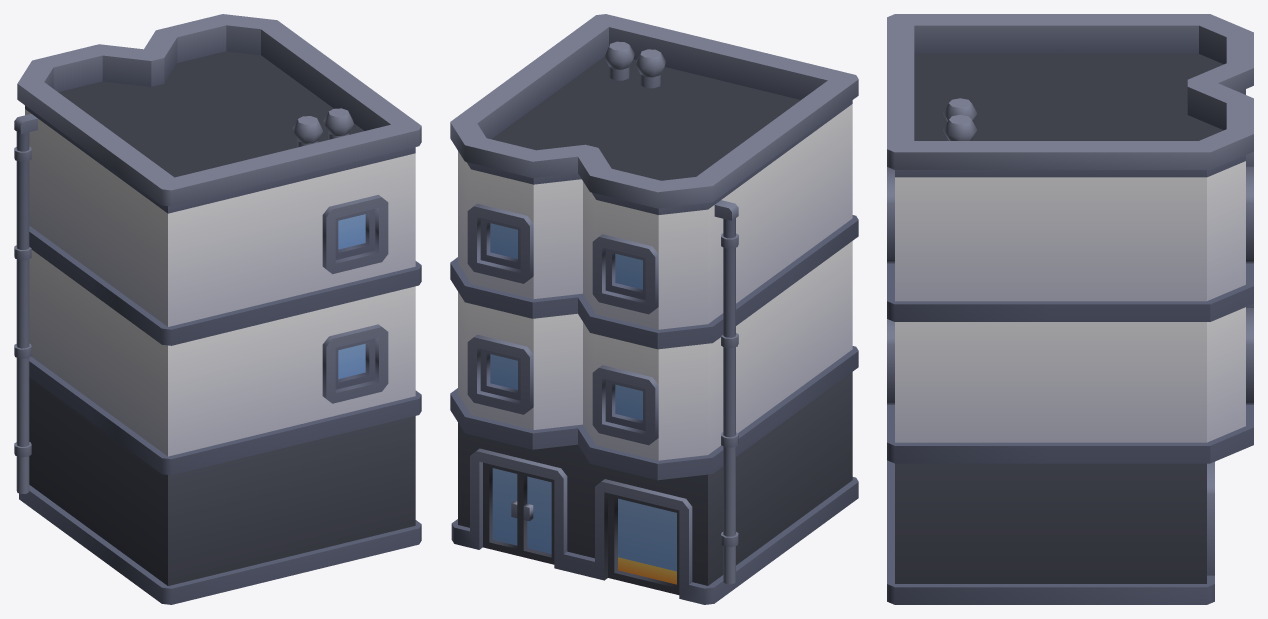
Rendered from building-a.glb.
The picture shows the model from 3 angles, left to right: view 1: azimuth 30°, elevation 25°; view 2: azimuth 150°, elevation 25°; view 3: azimuth 270°, elevation 25°; orthographic projection. The views are drawn at different scales.
Parts seen in each view (by area): view 1: building-a; view 2: building-a; view 3: building-a.
Boxes of the visible parts, x1,y1,x2,y2 form: building-a: (14,14,421,604); building-a: (450,14,858,604); building-a: (887,14,1253,604).
Size of the model in its own units: 0.8835 by 1.29 by 0.94.
1 material, 1 textured.
